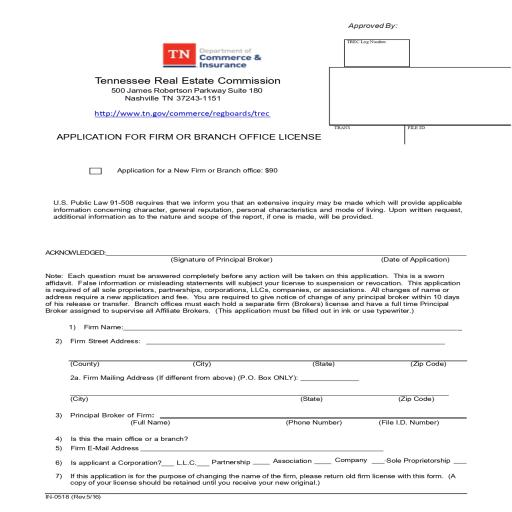Address: (68, 336, 143, 347)
check_box: (84, 161, 108, 179)
email: (68, 444, 140, 453)
free_text: (68, 409, 156, 418), (82, 321, 123, 332)
